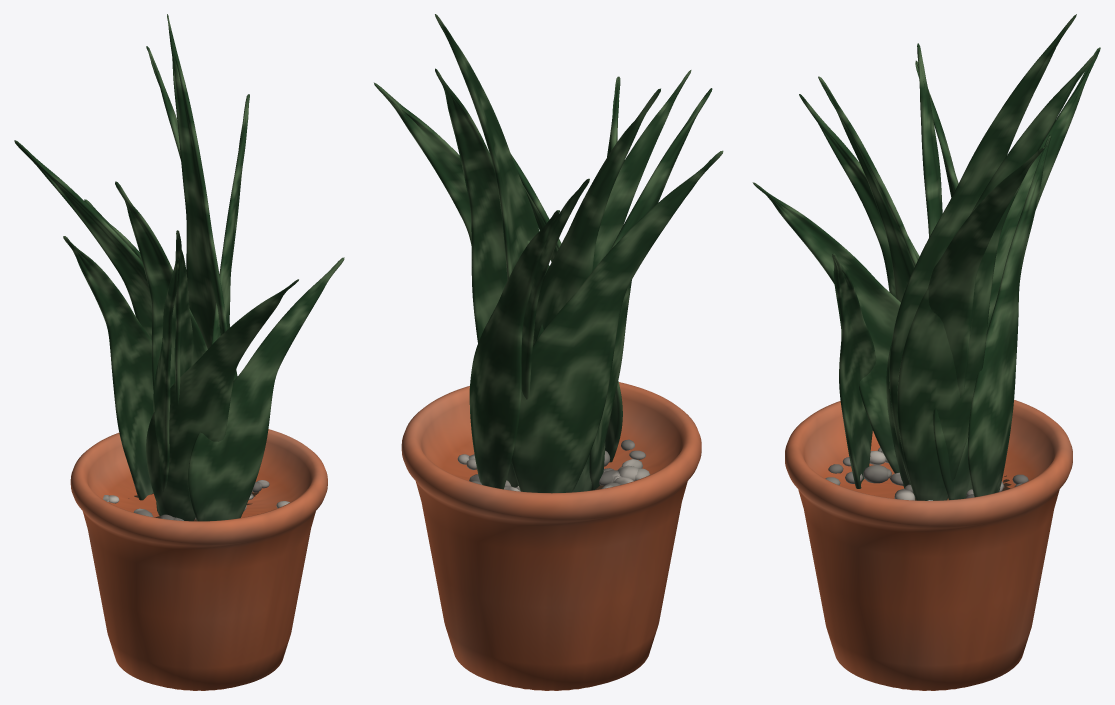
Rendered from plant.glb.
The picture shows the model from 3 angles, left to right: view 1: azimuth 30°, elevation 25°; view 2: azimuth 150°, elevation 25°; view 3: azimuth 270°, elevation 25°; orthographic projection. The views are drawn at different scales.
Parts seen in each view (by area): view 1: Plant_Leaves, Plant_Pot, Plant_Pebbles; view 2: Plant_Leaves, Plant_Pot, Plant_Pebbles; view 3: Plant_Leaves, Plant_Pot, Plant_Pebbles.
Part boxes in pixels (bbox=[...]): Plant_Leaves: bbox=[14, 14, 344, 521]; Plant_Pot: bbox=[70, 429, 327, 690]; Plant_Pebbles: bbox=[103, 480, 289, 520]; Plant_Leaves: bbox=[374, 14, 723, 493]; Plant_Pot: bbox=[401, 382, 701, 690]; Plant_Pebbles: bbox=[457, 439, 650, 491]; Plant_Leaves: bbox=[752, 14, 1100, 500]; Plant_Pot: bbox=[785, 399, 1072, 690]; Plant_Pebbles: bbox=[825, 447, 1028, 500].
Bounding box in the file's own units: 0.1366 × 0.3052 × 0.1455.
